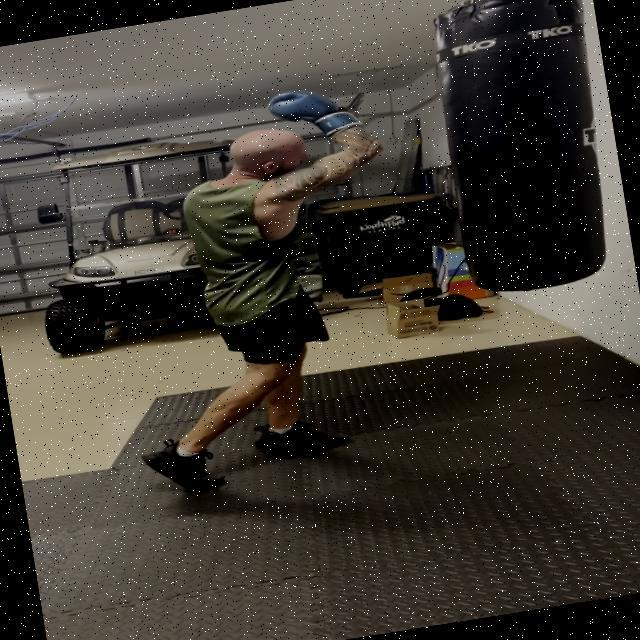bag: (431, 0, 620, 310)
uppercut: (160, 77, 401, 260)
